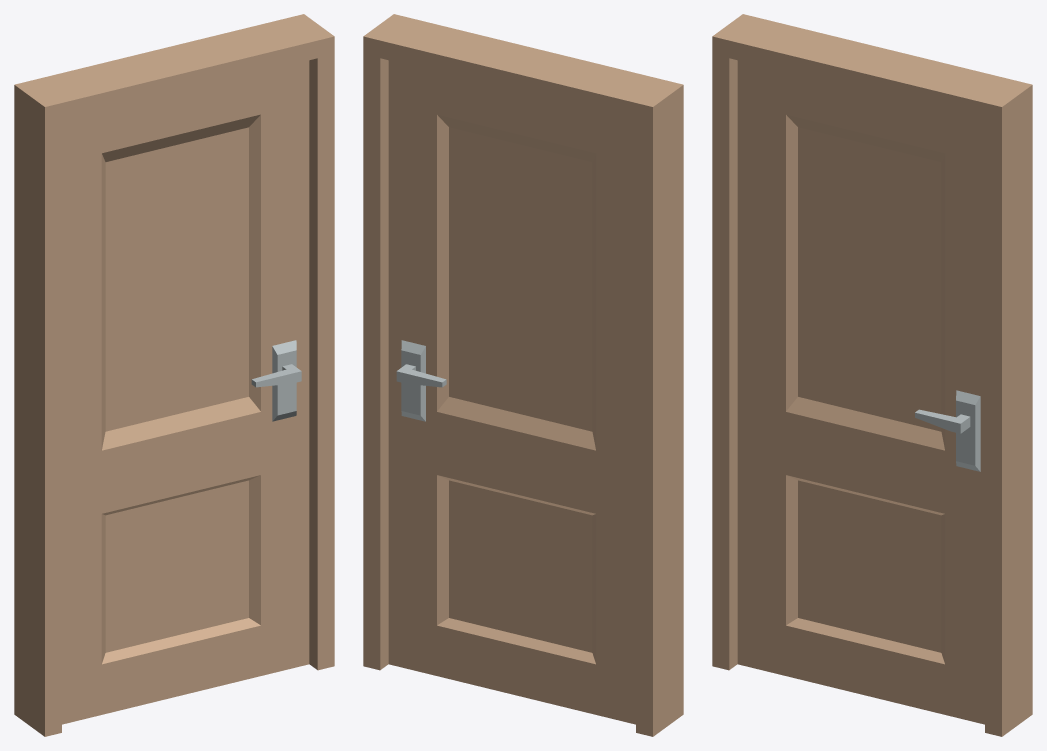
File: doorway.glb
3 renders of one model, left to right at view 1: azimuth 30°, elevation 25°; view 2: azimuth 150°, elevation 25°; view 3: azimuth 330°, elevation 25°, orthographic.
Visible parts, largest first — view 1: doorway; view 2: doorway; view 3: doorway.
Boxes of the visible parts, bbox=[...] form: doorway: bbox=[14, 14, 334, 736]; doorway: bbox=[363, 14, 683, 736]; doorway: bbox=[712, 14, 1032, 736].
Size of the model in its own units: 0.486 by 1.01 by 0.1134.
